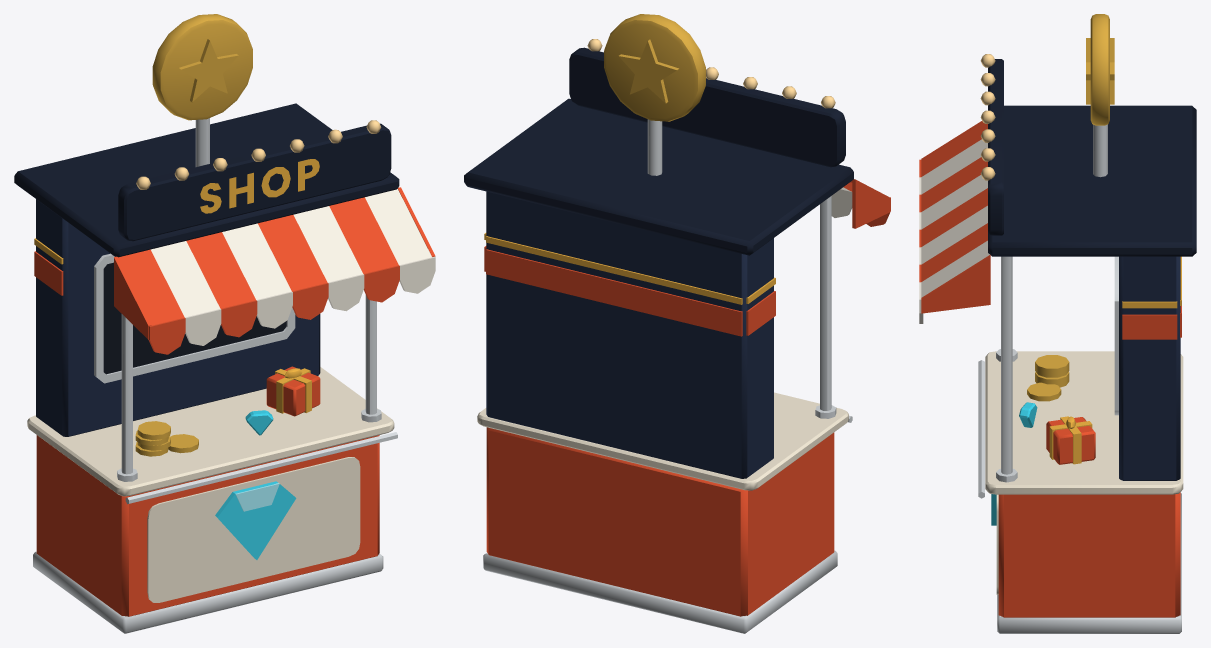
Rendered from Lobby_ShopKiosk.fbx.
3 renders of one model, left to right at view 1: azimuth 30°, elevation 25°; view 2: azimuth 150°, elevation 25°; view 3: azimuth 270°, elevation 25°, orthographic.
Parts seen in each view (by area): view 1: Cream, Roof, Tower, Cabinet, AwningRed, Chrome, AwningCream, Coin, Screen, Gem, Mustard, GoldCoins (+4 smaller); view 2: Tower, Cabinet, Roof, Chrome, Coin, Belt, Cream, Mustard, AwningRed, Bulbs; view 3: Roof, Cabinet, Cream, Tower, Chrome, AwningRed, AwningCream, Coin, GoldCoins, Belt, Gift, Mustard (+2 smaller).
Part boxes in pixels (box(x1,y1,x2,y2)): Cream: box(27, 367, 394, 602); Roof: box(14, 103, 399, 257); Tower: box(36, 199, 320, 436); Cabinet: box(36, 435, 379, 616); AwningRed: box(114, 187, 435, 354); Chrome: box(33, 118, 397, 633); AwningCream: box(150, 189, 435, 345); Coin: box(152, 14, 252, 120); Screen: box(103, 262, 286, 374); Gem: box(215, 410, 296, 559); Mustard: box(34, 159, 319, 413); GoldCoins: box(135, 421, 198, 456); Tower: box(486, 191, 773, 478); Cabinet: box(486, 427, 834, 616); Roof: box(464, 47, 853, 255); Chrome: box(483, 119, 852, 633); Coin: box(604, 14, 705, 121); Belt: box(484, 246, 775, 336); Cream: box(477, 392, 848, 490); Mustard: box(484, 233, 775, 304); AwningRed: box(843, 179, 890, 228); Bulbs: box(587, 39, 835, 108); Roof: box(988, 59, 1196, 256); Cabinet: box(998, 492, 1180, 617); Cream: box(985, 351, 1183, 594); Tower: box(1119, 256, 1180, 480); Chrome: box(978, 124, 1181, 633); AwningRed: box(919, 121, 990, 313); AwningCream: box(919, 139, 989, 323); Coin: box(1086, 14, 1114, 125); GoldCoins: box(1027, 355, 1069, 401); Belt: box(1122, 306, 1181, 339); Gift: box(1046, 417, 1095, 464); Mustard: box(1049, 256, 1181, 464).
Size of the model in its own units: 623 by 1140 by 519.
